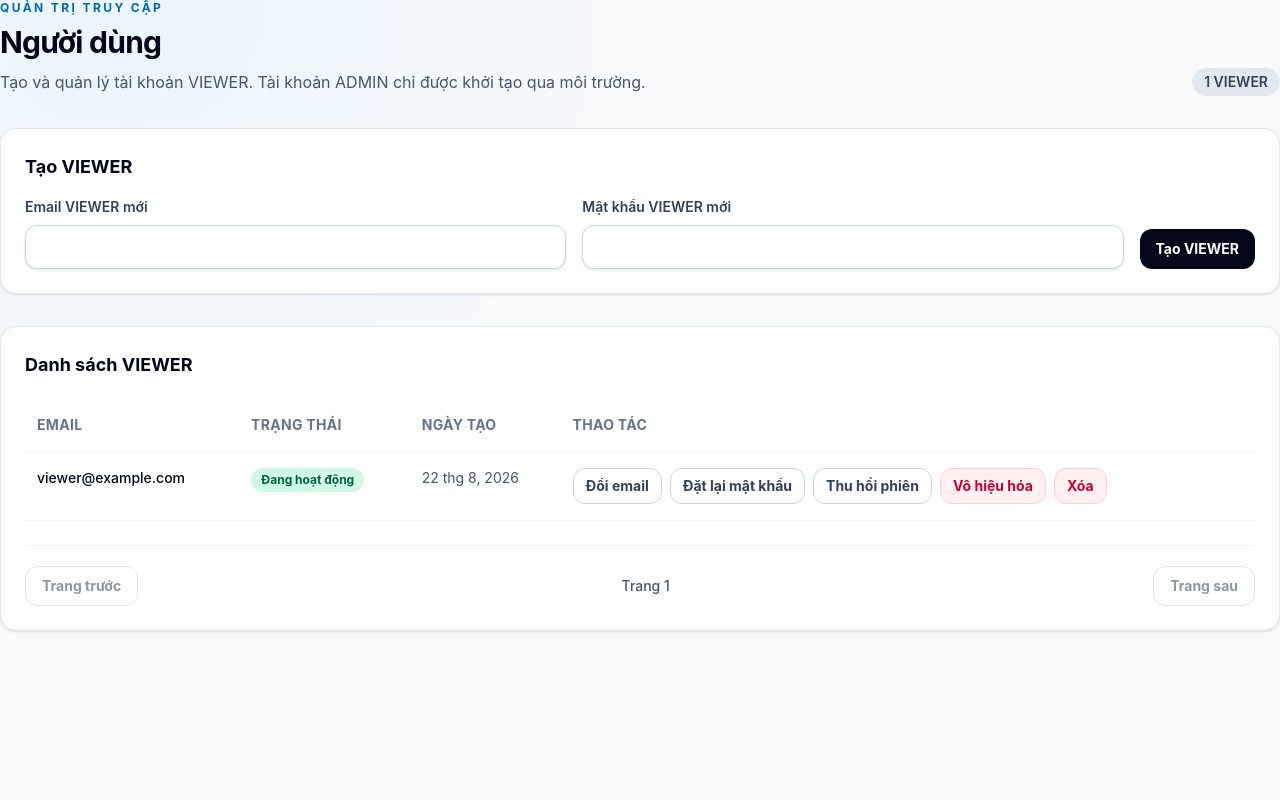
UsersScreen › keeps auth and renders fixed copy for 404/USER_NOT_FOUND
Expected: the text "viewer@example.com" is shown, [25, 452, 239, 521]
Click the button "Thu hồi phiên" at coordinates (872, 486), box [813, 468, 932, 504]
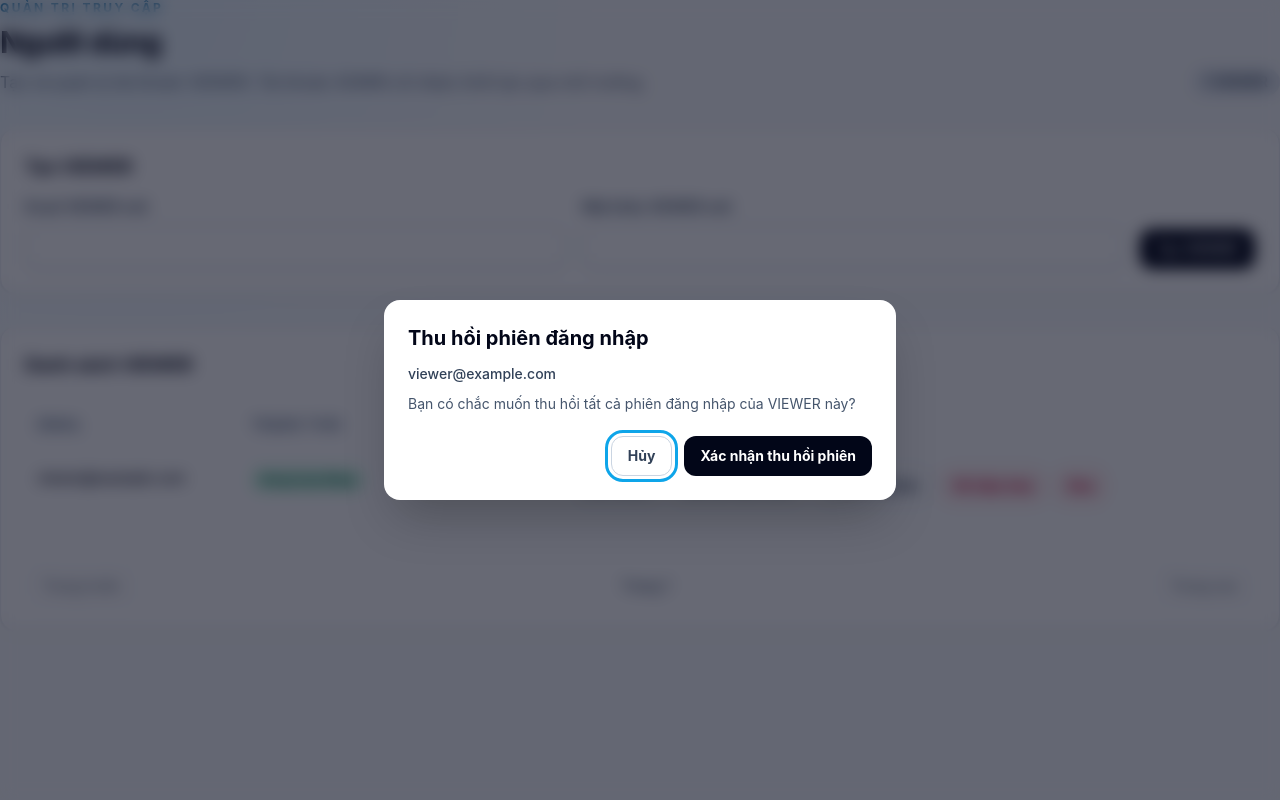
Click the button "Xác nhận thu hồi phiên" at coordinates (778, 456), box [684, 436, 872, 476]
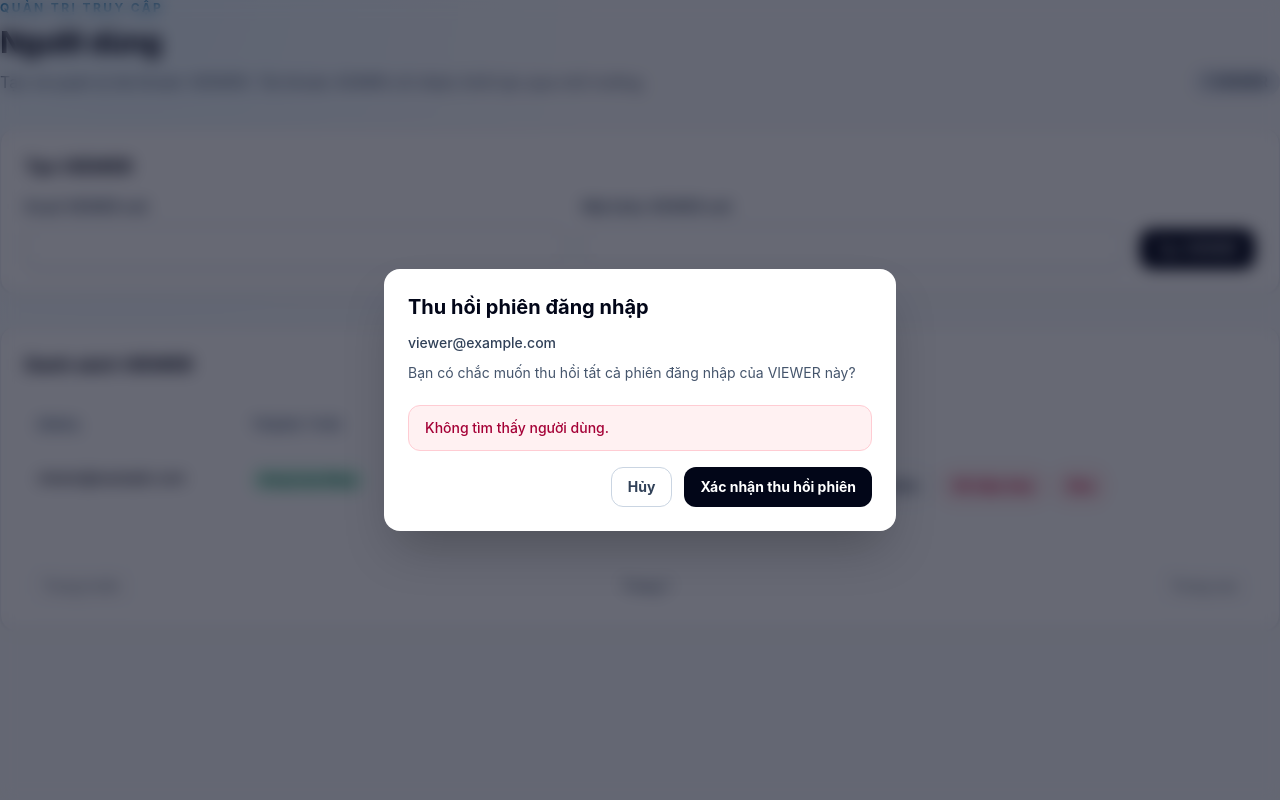
Expected: the message does not show "planted server text", [408, 405, 872, 451]
Expected: the message reads "Không tìm thấy người dùng.", [425, 419, 609, 436]
